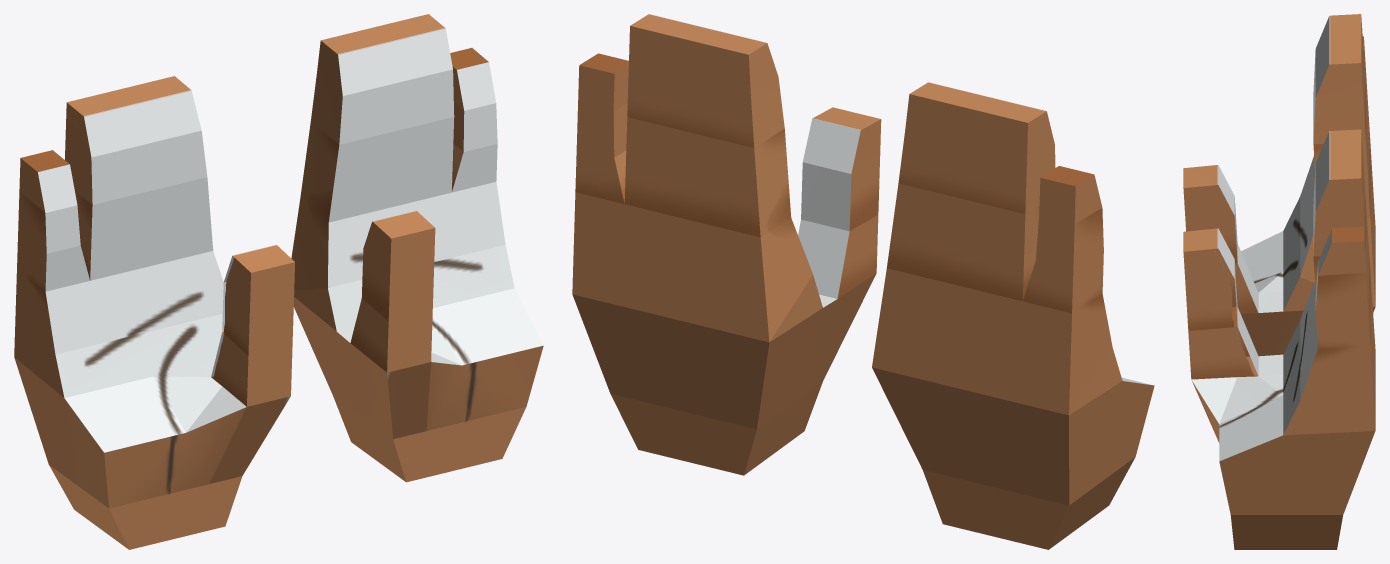
The model's file is Male Mitten Hand.fbx.
3 views of the same model, side by side, from view 1: azimuth 30°, elevation 25°; view 2: azimuth 150°, elevation 25°; view 3: azimuth 270°, elevation 25° (orthographic). The views are drawn at different scales.
Parts seen in each view (by area): view 1: Male_Right_Hand.001, Male_Left_Hand.001, Male_Left_Hand_Finger.002, Male_Right_Hand_Finger.002, Male_Left_Hand_Finger.001, Male_Right_Hand_Finger.001, Male_Right_Hand_Finger, Male_Left_Hand_Finger, Male_Left_Hand_Thumb, Male_Right_Hand_Thumb, Male_Right_Hand_Pinkry, Male_Right_Hand_Pinkry.001 (+4 smaller); view 2: Male_Left_Hand.001, Male_Right_Hand.001, Male_Left_Hand_Finger, Male_Left_Hand_Finger.002, Male_Right_Hand_Finger.002, Male_Right_Hand_Finger, Male_Left_Hand_Finger.001, Male_Right_Hand_Finger.001, Male_Left_Hand_Thumb, Male_Right_Hand_Pinkry, Male_Right_Hand_Pinkry.001, Male_Left_Hand_Pinkry (+3 smaller); view 3: Male_Left_Hand.001, Male_Right_Hand.001, Male_Right_Hand_Finger.002, Male_Left_Hand_Finger.002, Male_Left_Hand_Pinkry, Male_Left_Hand_Thumb, Male_Left_Hand_Pinkry.001, Male_Right_Hand_Thumb, Male_Left_Hand_Pinkry.002, Male_Right_Hand_Finger, Male_Left_Hand_Finger, Male_Right_Hand_Finger.001 (+2 smaller).
Part boxes in pixels (x1,y1,x2,y2): Male_Right_Hand.001: [14, 314, 292, 549]; Male_Left_Hand.001: [293, 245, 543, 482]; Male_Left_Hand_Finger.002: [311, 14, 454, 144]; Male_Right_Hand_Finger.002: [65, 76, 207, 204]; Male_Left_Hand_Finger.001: [300, 117, 454, 222]; Male_Right_Hand_Finger.001: [75, 177, 213, 280]; Male_Right_Hand_Finger: [90, 251, 223, 343]; Male_Left_Hand_Finger: [291, 192, 460, 290]; Male_Left_Hand_Thumb: [362, 210, 435, 321]; Male_Right_Hand_Thumb: [222, 244, 294, 355]; Male_Right_Hand_Pinkry: [14, 268, 99, 356]; Male_Right_Hand_Pinkry.001: [17, 191, 89, 291]; Male_Left_Hand.001: [572, 215, 878, 475]; Male_Right_Hand.001: [872, 348, 1154, 549]; Male_Left_Hand_Finger: [621, 204, 812, 342]; Male_Left_Hand_Finger.002: [627, 14, 784, 147]; Male_Right_Hand_Finger.002: [898, 82, 1055, 214]; Male_Right_Hand_Finger: [872, 268, 1022, 403]; Male_Left_Hand_Finger.001: [624, 117, 791, 237]; Male_Right_Hand_Finger.001: [887, 183, 1039, 301]; Male_Left_Hand_Thumb: [801, 107, 881, 231]; Male_Right_Hand_Pinkry: [1019, 294, 1112, 415]; Male_Right_Hand_Pinkry.001: [1023, 208, 1103, 313]; Male_Left_Hand_Pinkry: [572, 192, 624, 306]; Male_Left_Hand.001: [1188, 307, 1375, 549]; Male_Right_Hand.001: [1235, 196, 1375, 356]; Male_Right_Hand_Finger.002: [1313, 14, 1365, 144]; Male_Left_Hand_Finger.002: [1313, 129, 1365, 256]; Male_Left_Hand_Pinkry: [1300, 328, 1375, 430]; Male_Left_Hand_Thumb: [1183, 228, 1237, 330]; Male_Left_Hand_Pinkry.001: [1315, 258, 1370, 348]; Male_Right_Hand_Thumb: [1183, 165, 1237, 263]; Male_Left_Hand_Pinkry.002: [1318, 226, 1365, 275]; Male_Right_Hand_Finger: [1300, 164, 1375, 306]; Male_Left_Hand_Finger: [1300, 272, 1375, 409]; Male_Right_Hand_Finger.001: [1313, 93, 1370, 217].
Size of the model in its own units: 39.92 by 33.48 by 15.8.
1 material, 1 textured.
